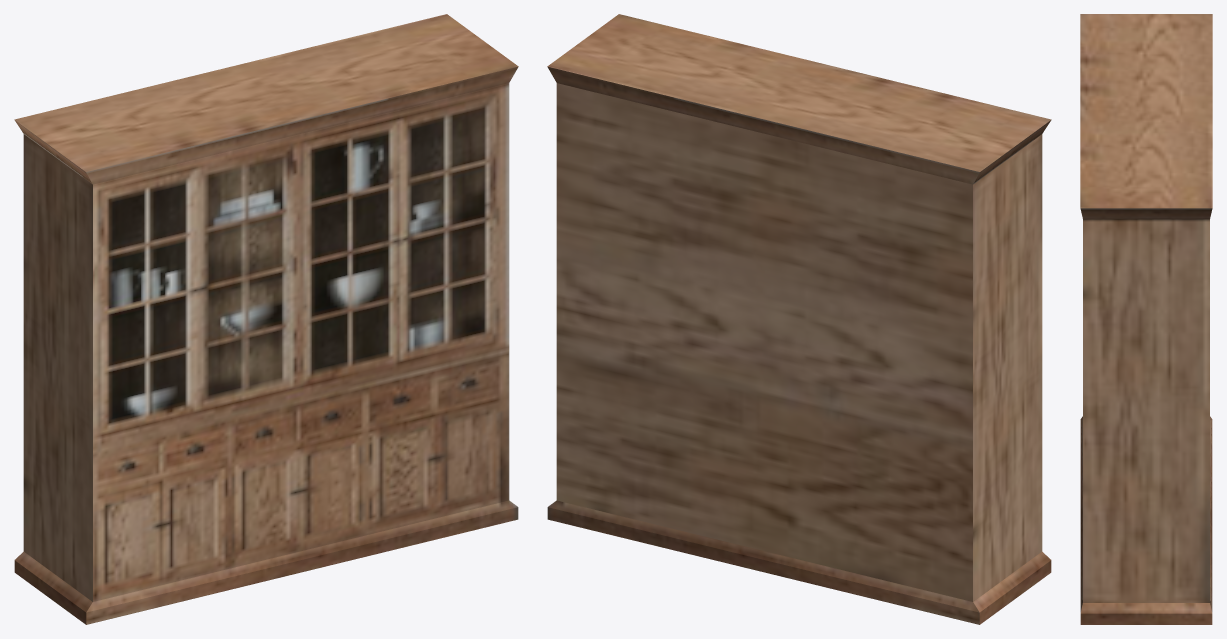
File: Fitment-col.glb
3 views of the same model, side by side, from view 1: azimuth 30°, elevation 25°; view 2: azimuth 150°, elevation 25°; view 3: azimuth 270°, elevation 25° (orthographic). The views are drawn at different scales.
Visible parts, largest first — view 1: Fitment-col; view 2: Fitment-col; view 3: Fitment-col.
Boxes of the visible parts, <box> form: Fitment-col: <box>14,14,518,624</box>; Fitment-col: <box>547,14,1051,624</box>; Fitment-col: <box>1080,14,1212,624</box>.
Size of the model in its own units: 1.92 by 1.92 by 0.552.
1 material, 1 textured.
